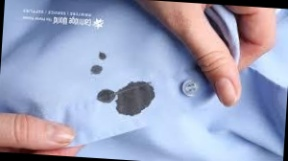ink: (116, 81, 154, 117), (96, 90, 114, 103), (91, 66, 102, 75), (99, 53, 106, 59)
